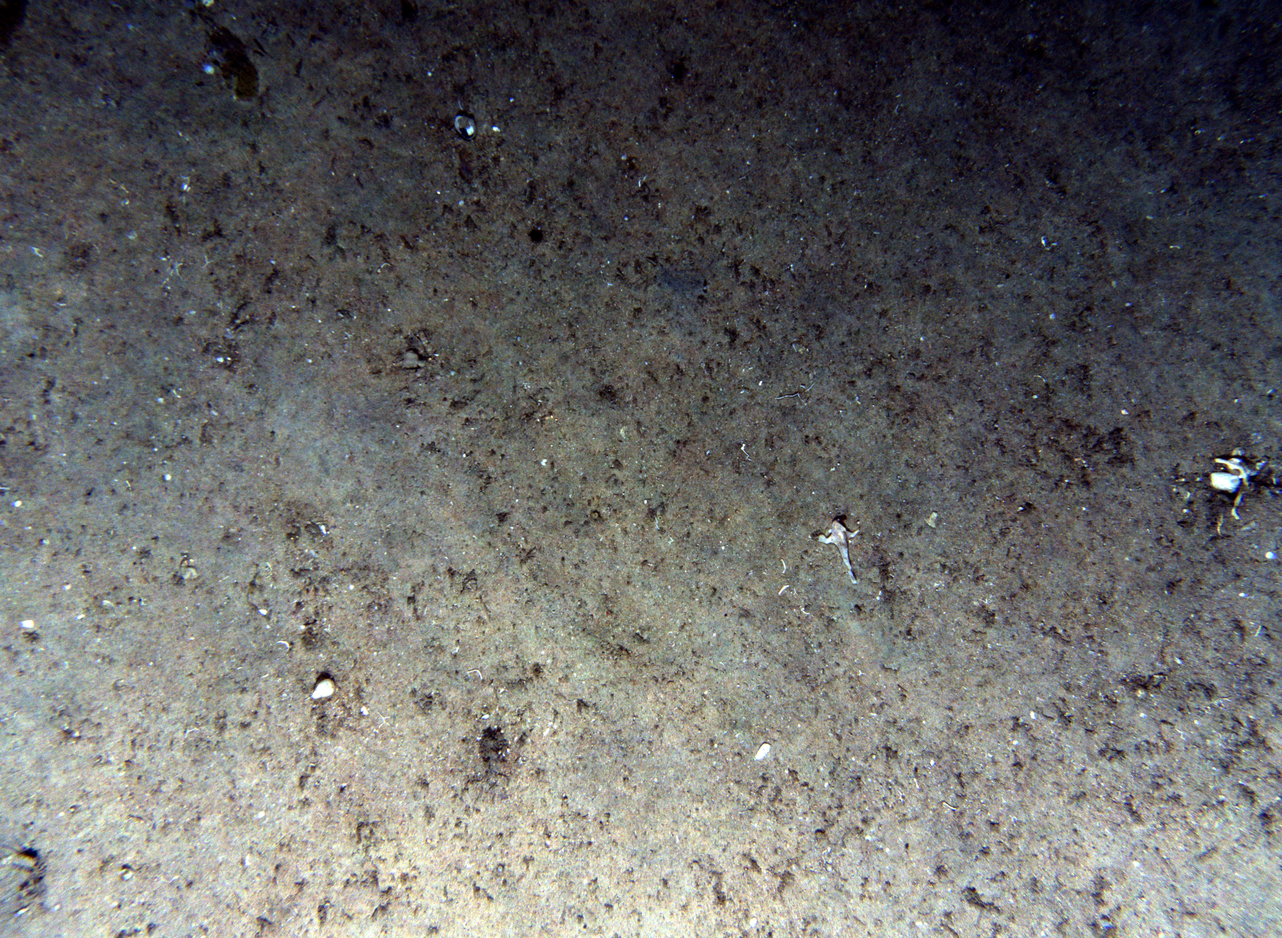Brachionichthyidae: (814, 517, 861, 585)
